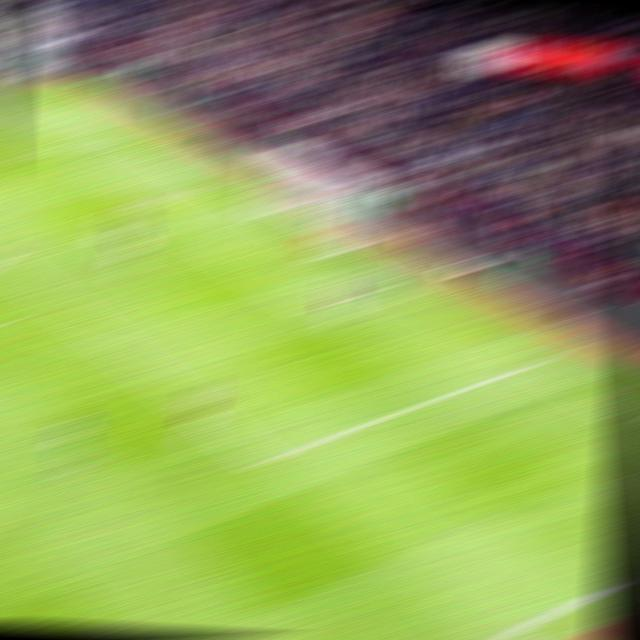bigarea_bottom_inner: (243, 448, 285, 474)
bigarea_bottom_outter: (513, 356, 551, 374)
bigarea_top_outter: (111, 131, 143, 145)
bottom_arc_area_intersection: (95, 334, 136, 357)
corner: (14, 81, 52, 93)
smallarea_bottom_inner: (296, 297, 332, 318)
smallarea_top_inner: (124, 194, 160, 210)
smallarea_top_outter: (194, 178, 231, 194)
